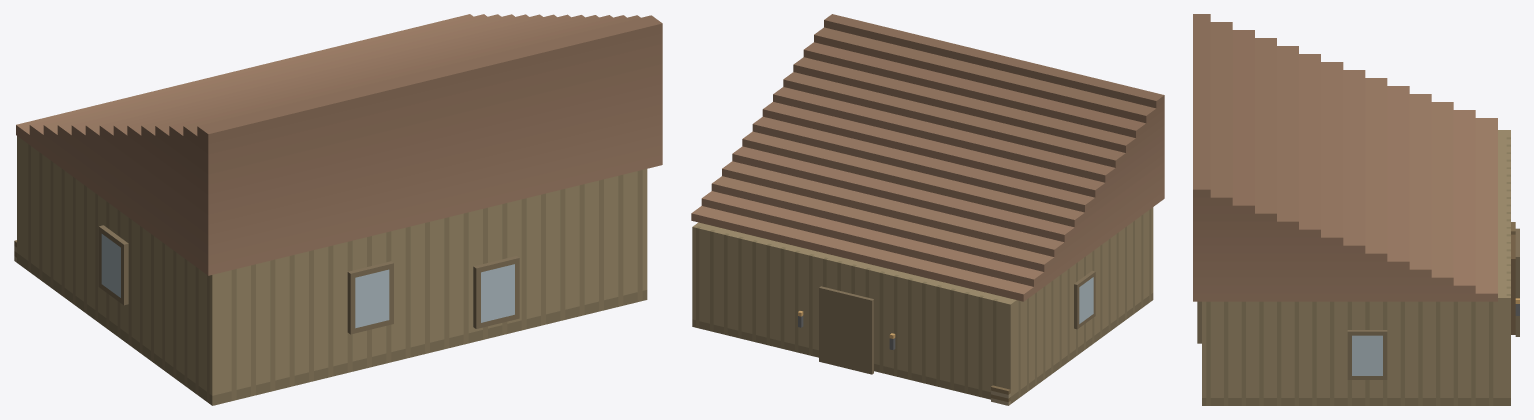
File: aserradero_02.glb
The picture shows the model from 3 angles, left to right: view 1: azimuth 30°, elevation 25°; view 2: azimuth 150°, elevation 25°; view 3: azimuth 270°, elevation 25°; orthographic projection. The views are drawn at different scales.
Parts seen in each view (by area): view 1: aserradero_02; view 2: aserradero_02; view 3: aserradero_02.
Part boxes in pixels (x1,y1,x2,y2): aserradero_02: [14, 14, 662, 405]; aserradero_02: [691, 14, 1164, 405]; aserradero_02: [1193, 14, 1519, 405].
Size of the model in its own units: 9.4 by 5.5 by 7.4.
